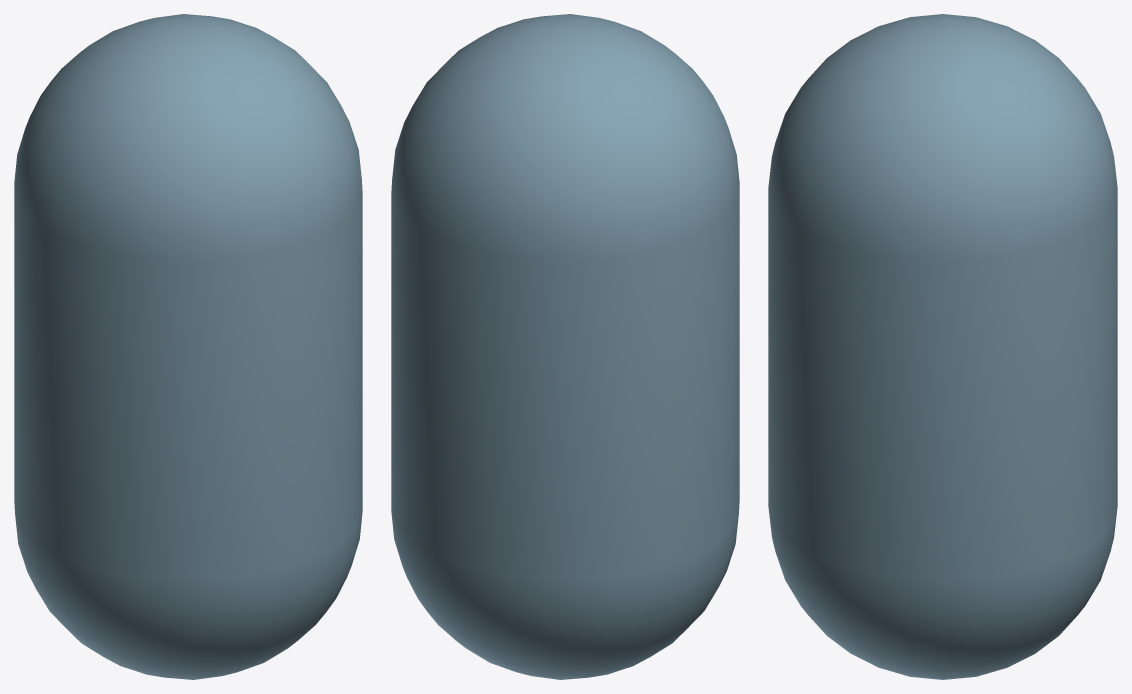
The model's file is PlayerCapsule.fbx.
The picture shows the model from 3 angles, left to right: view 1: azimuth 30°, elevation 25°; view 2: azimuth 150°, elevation 25°; view 3: azimuth 270°, elevation 25°; orthographic projection.
Parts seen in each view (by area): view 1: Capsule; view 2: Capsule; view 3: Capsule.
Boxes of the visible parts, box(x1,y1,x2,y2) form: Capsule: box(14, 14, 362, 679); Capsule: box(391, 14, 739, 679); Capsule: box(768, 14, 1117, 679).
Size of the model in its own units: 100 by 200 by 100.
